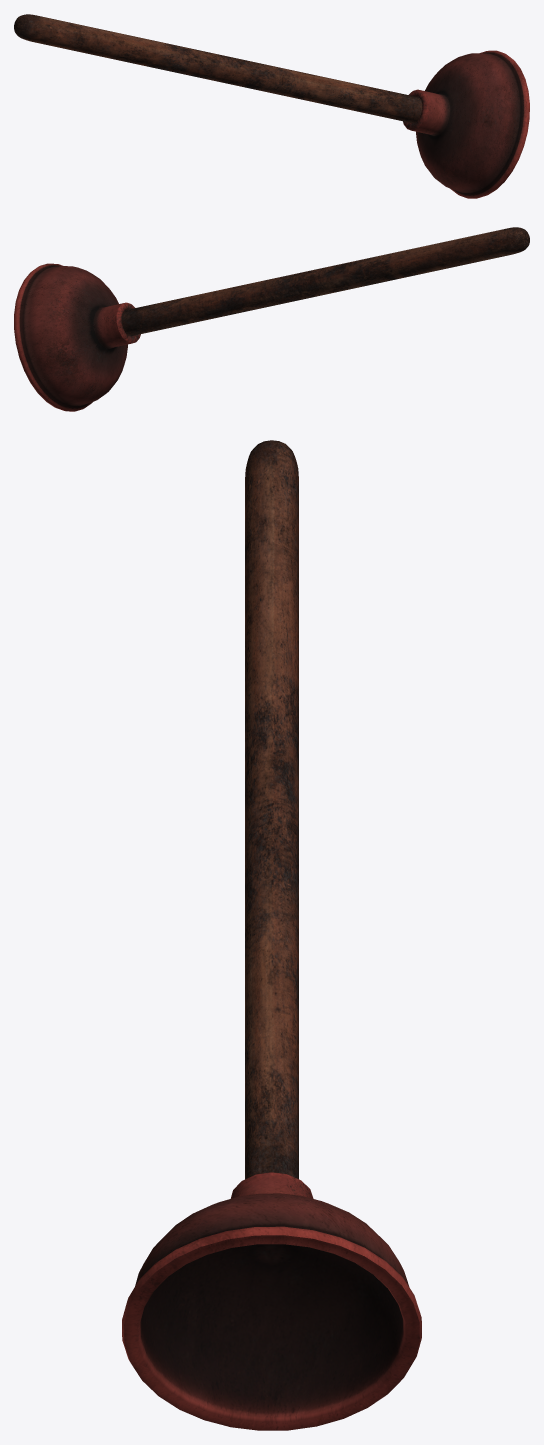
File: plunger.glb
3 renders of one model, top to bottom at view 1: azimuth 30°, elevation 25°; view 2: azimuth 150°, elevation 25°; view 3: azimuth 270°, elevation 25°, orthographic. The views are drawn at different scales.
Parts seen in each view (by area): view 1: LowPoly; view 2: LowPoly; view 3: LowPoly.
Boxes of the visible parts, left/top/right/bottom form: LowPoly: left=14, top=14, right=529, bottom=198; LowPoly: left=14, top=227, right=529, bottom=411; LowPoly: left=122, top=440, right=421, bottom=1430.
Size of the model in its own units: 3.42 by 1.87 by 0.899.
Materials: 1 (1 with a texture image).
